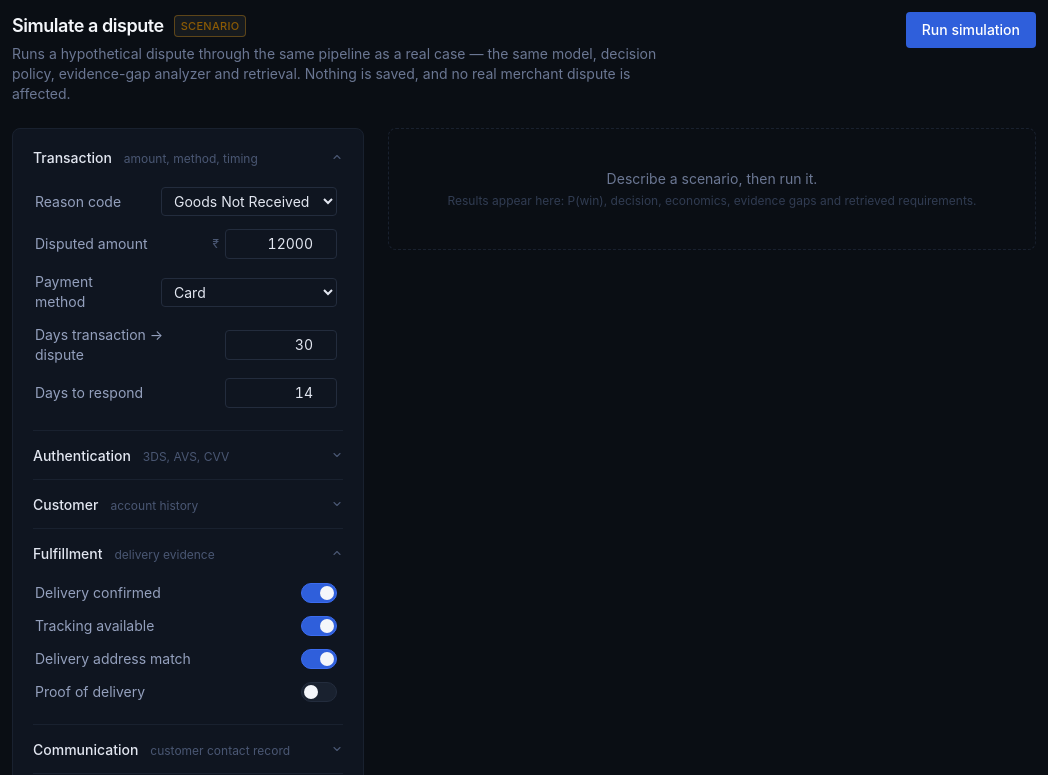
SimulationPage › surfaces a rejected scenario as a validation error, not a generic failure
Click the button "Run simulation" at (971, 30), box [906,12,1036,48]
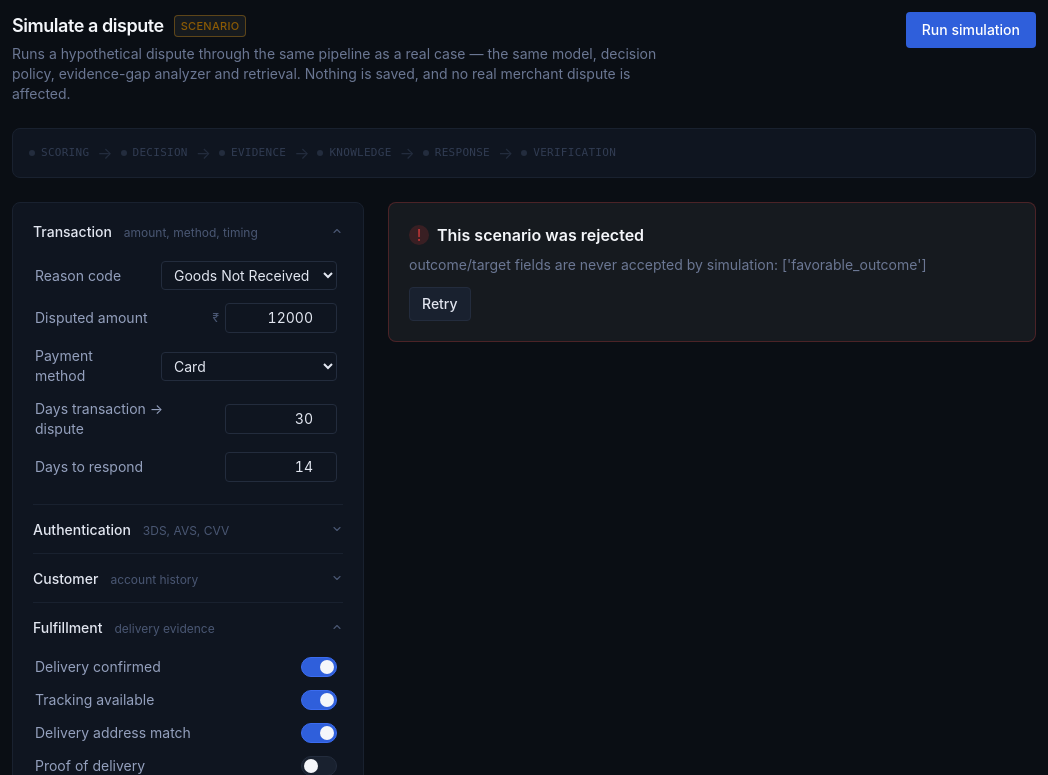
Expected: the text "This scenario was rejected" is shown, [437,223,644,247]
